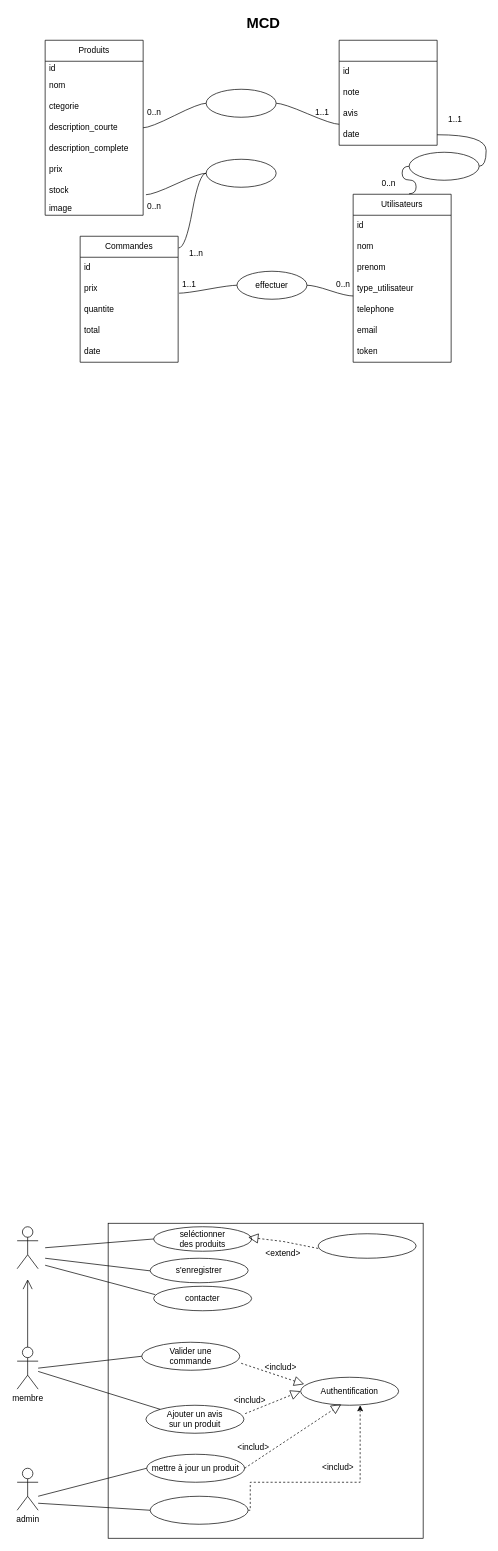
This 498x1551 diagram has some shape labels left out. Here are the shapes that lost their labels. From the top down, the box of each, then its label:
(205, 89, 276, 117): Avoir
(338, 40, 437, 145): NoteAvis
(205, 159, 276, 187): enregistrer
(408, 152, 479, 180): émettre
(16, 1226, 38, 1269): visiteur
(317, 1233, 416, 1258): Ajouter des produits
(149, 1496, 248, 1524): supprimer un adhérent
